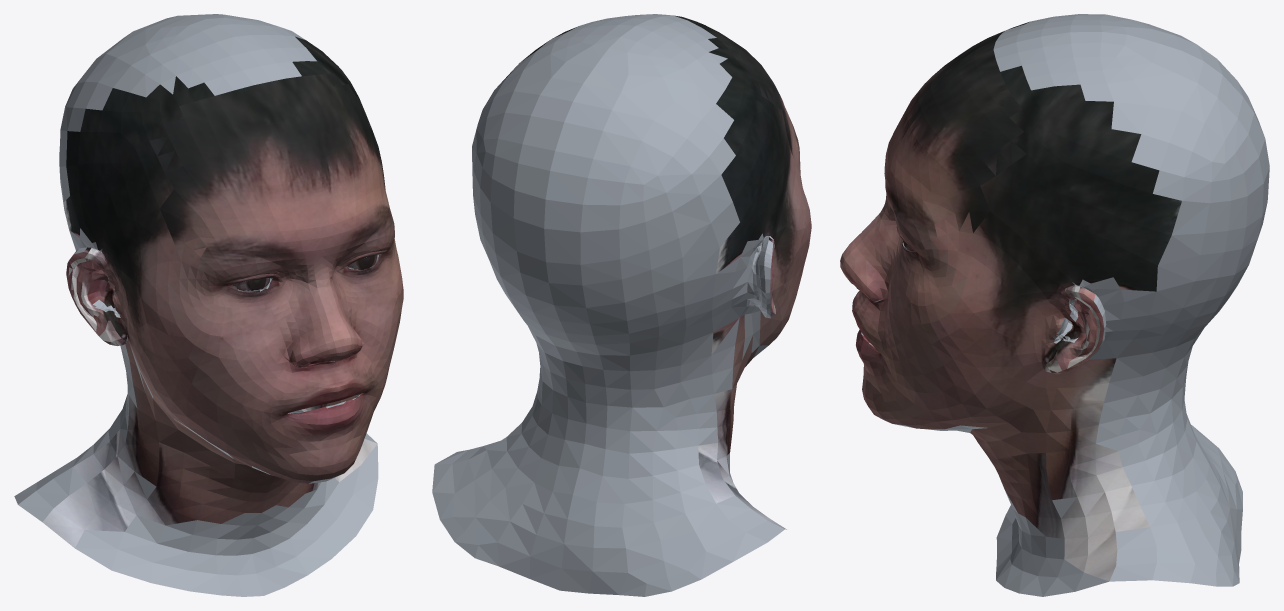
The model's file is head.three_textures.obj.
The picture shows the model from 3 angles, left to right: view 1: azimuth 30°, elevation 25°; view 2: azimuth 150°, elevation 25°; view 3: azimuth 270°, elevation 25°; orthographic projection. The views are drawn at different scales.
Bounding box in the file's own units: 0.214 × 0.3193 × 0.2301.
Materials: 4 (3 with a texture image).
